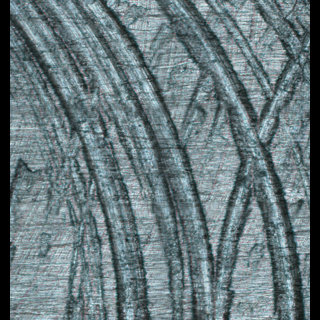d: (10, 1, 307, 320)
